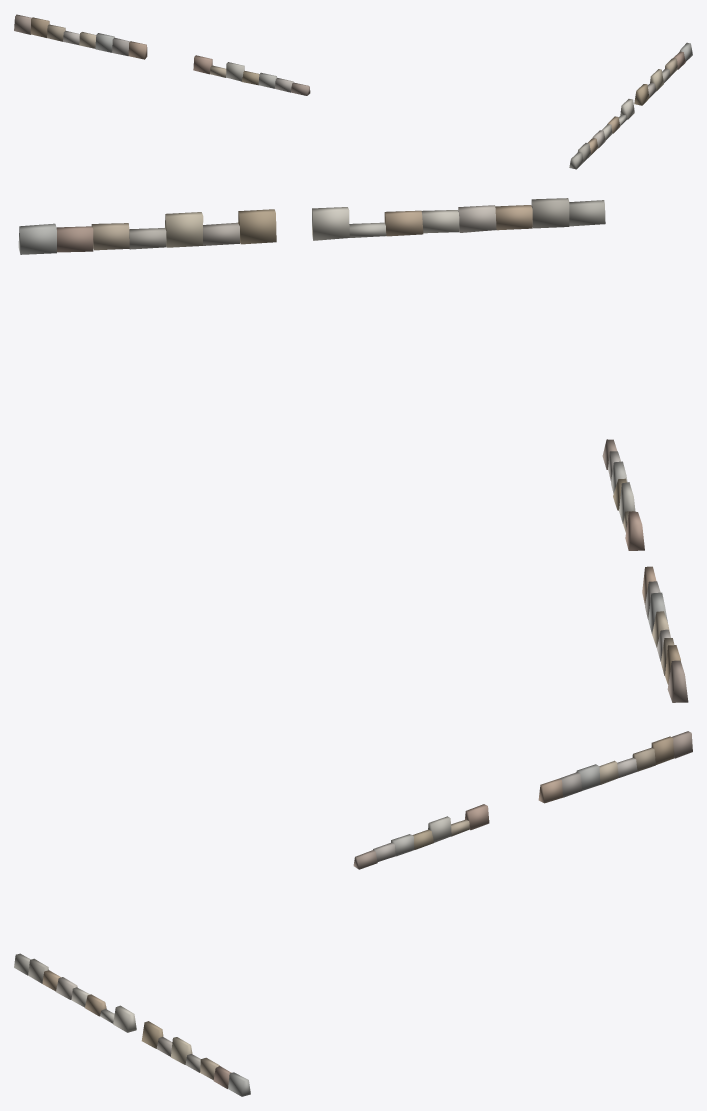
The model's file is farm_27_16_far.glb.
3 views of the same model, one above another, from view 1: azimuth 30°, elevation 25°; view 2: azimuth 150°, elevation 25°; view 3: azimuth 270°, elevation 25° (orthographic). The views are drawn at different scales.
Parts seen in each view (by area): view 1: geometry_0; view 2: geometry_0; view 3: geometry_0.
Boxes of the visible parts, x1,y1,x2,y2 form: geometry_0: (14,14,692,169); geometry_0: (18,198,688,702); geometry_0: (14,731,692,1096).
Size of the model in its own units: 50.31 by 3.51 by 45.09.
